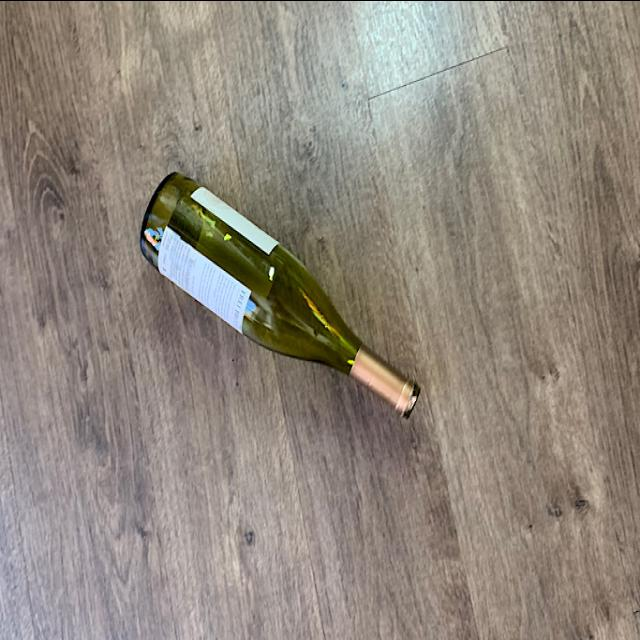litter: (138, 172, 432, 422)
